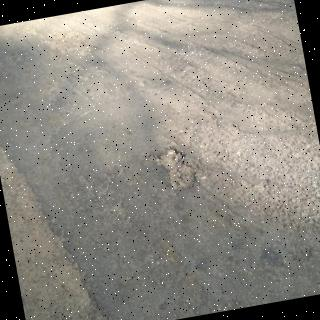pothole: (149, 149, 196, 190)
